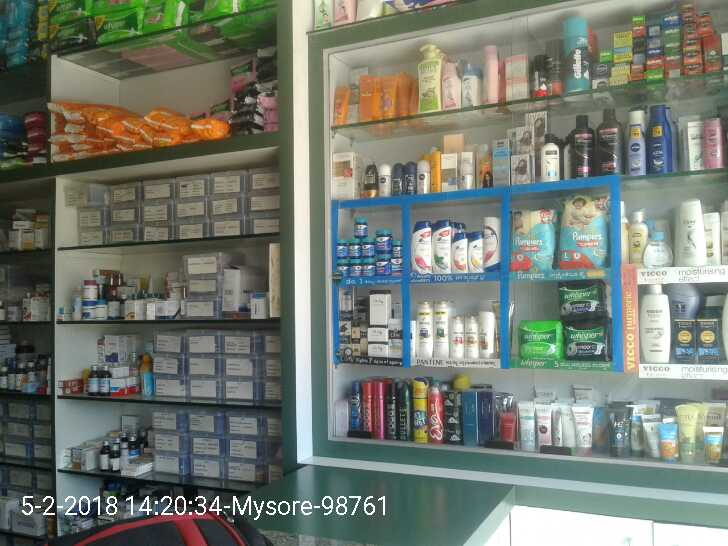beauty: (428, 218, 451, 277), (408, 221, 431, 276), (430, 299, 450, 360), (481, 216, 501, 270), (459, 315, 477, 361), (479, 308, 496, 356), (385, 312, 401, 360), (450, 230, 468, 272), (419, 299, 431, 359), (348, 322, 366, 358), (467, 233, 481, 277), (451, 309, 463, 360), (337, 318, 350, 353)
pharmacy: (510, 205, 555, 279), (561, 198, 605, 268), (559, 282, 609, 317), (520, 320, 559, 359), (566, 325, 607, 358), (372, 232, 390, 253), (350, 212, 366, 235), (375, 252, 389, 277), (360, 235, 375, 258), (346, 239, 361, 261), (335, 257, 348, 280), (388, 255, 402, 275), (348, 257, 360, 277), (336, 238, 348, 257), (362, 257, 373, 275)
